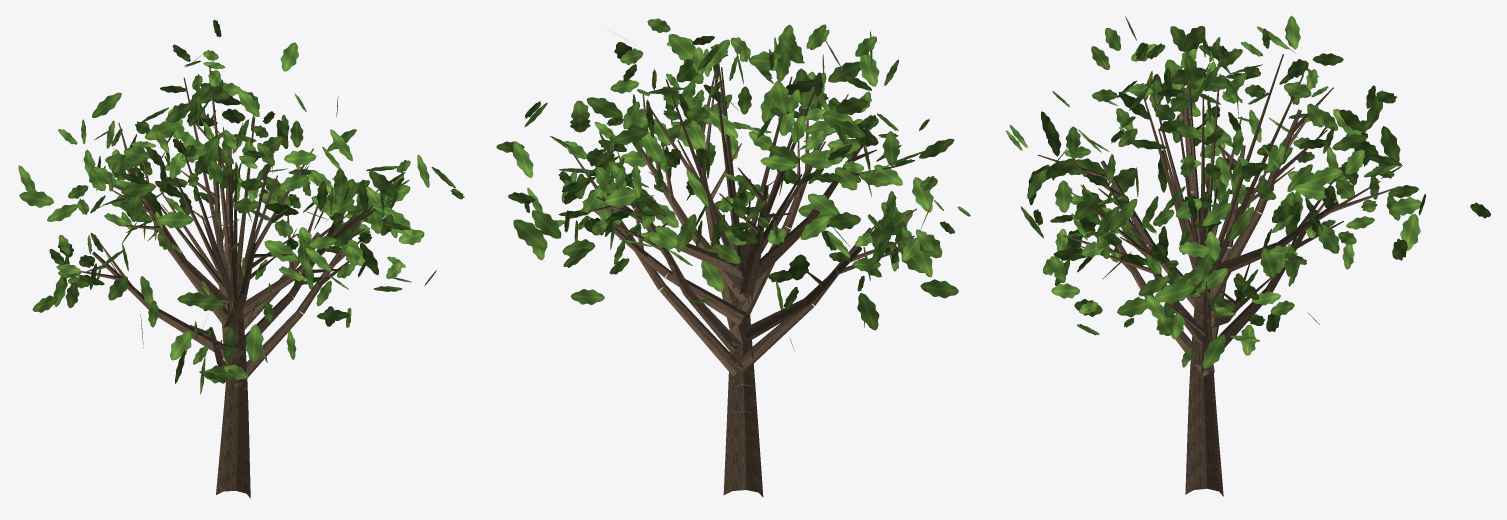
The model's file is birch-distance.glb.
3 renders of one model, left to right at view 1: azimuth 30°, elevation 25°; view 2: azimuth 150°, elevation 25°; view 3: azimuth 270°, elevation 25°, orthographic. The views are drawn at different scales.
Parts seen in each view (by area): view 1: foliage, bark; view 2: foliage, bark; view 3: foliage, bark.
Part boxes in pixels (left/top/right/bottom): foliage: left=18, top=19, right=464, bottom=394; bark: left=81, top=65, right=396, bottom=498; foliage: left=496, top=18, right=970, bottom=350; bark: left=571, top=63, right=916, bottom=497; foliage: left=1006, top=15, right=1490, bottom=369; bark: left=1037, top=50, right=1399, bottom=496.
Size of the model in its own units: 9.73 by 9.81 by 9.18.
2 materials, 2 textured.
